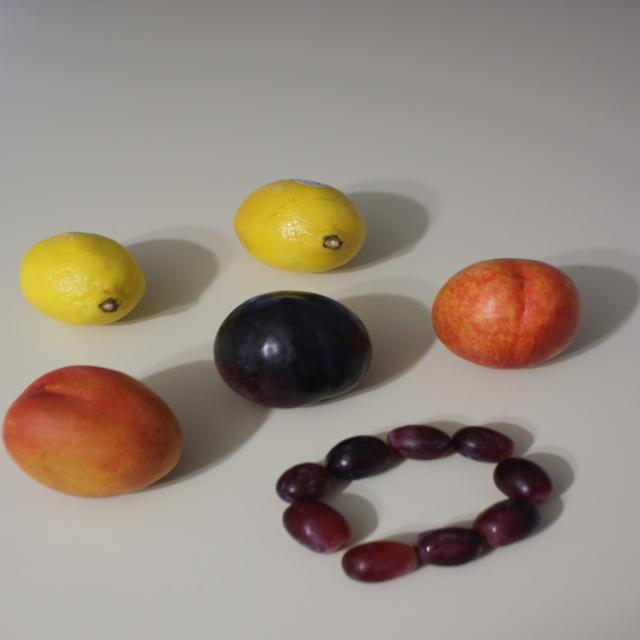Peach: (2, 364, 184, 497), (433, 258, 584, 368)
